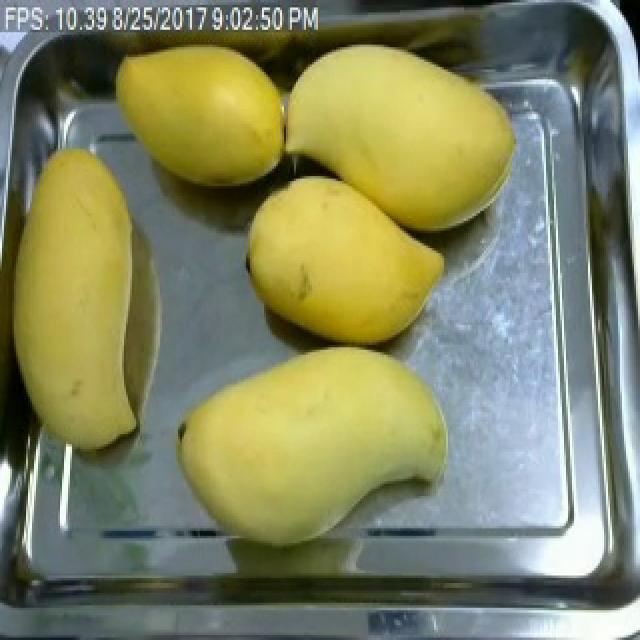fruit: (166, 335, 462, 561), (0, 131, 178, 464), (278, 27, 536, 251), (230, 154, 456, 357), (102, 30, 294, 201)
